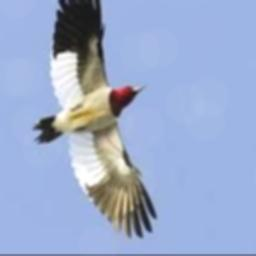Woodpecker: (32, 0, 155, 237)
